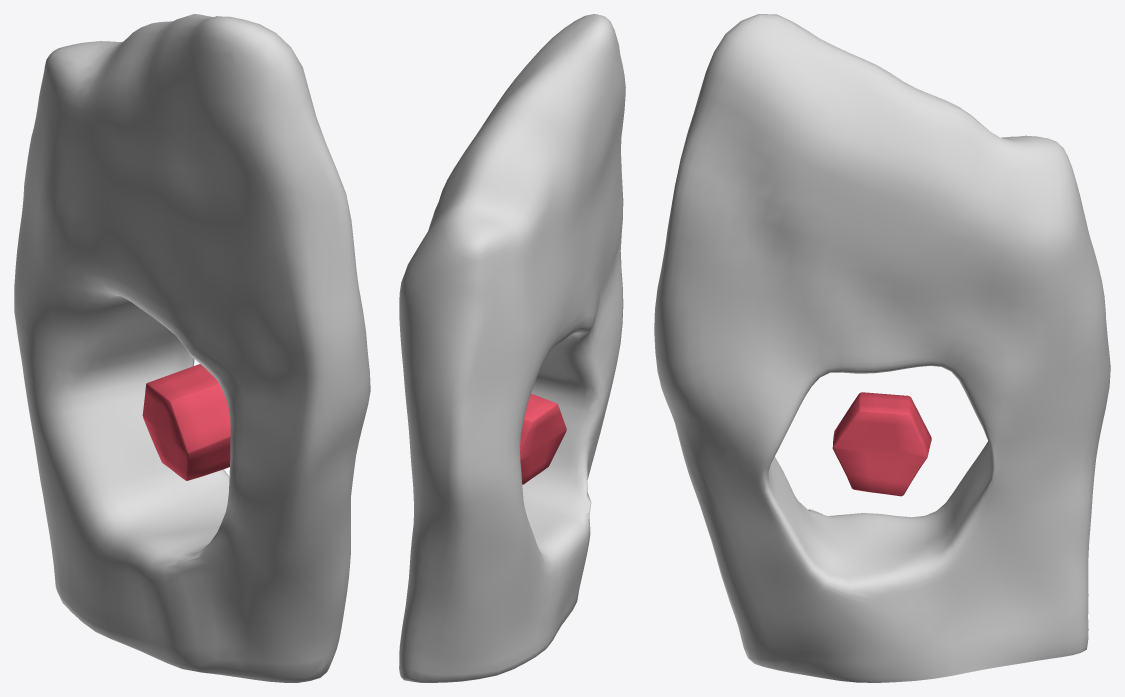
The model's file is Final Hex rock.fbx.
3 renders of one model, left to right at view 1: azimuth 30°, elevation 25°; view 2: azimuth 150°, elevation 25°; view 3: azimuth 270°, elevation 25°, orthographic. The views are drawn at different scales.
Visible parts, largest first — view 1: hex rock.001, hex rock; view 2: hex rock.001, hex rock; view 3: hex rock.001, hex rock.
Boxes of the visible parts, x1,y1,x2,y2 form: hex rock.001: (14, 14, 370, 682); hex rock: (142, 364, 230, 480); hex rock.001: (399, 14, 625, 682); hex rock: (520, 393, 566, 484); hex rock.001: (654, 14, 1110, 682); hex rock: (832, 392, 931, 496).
Size of the model in its own units: 432 by 1411 by 954.
